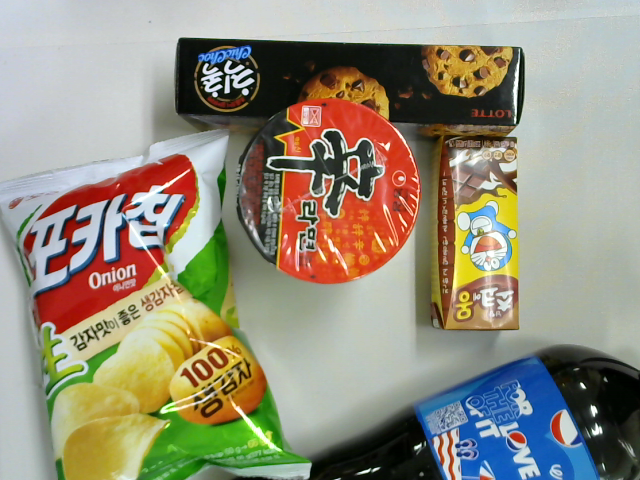Chicchok_Original_2400: (172, 34, 524, 131)
Choco_E_Mong: (431, 134, 525, 333)
Pepsi_Cola_1.5L: (307, 345, 640, 480)
Pocachip_Onion: (1, 126, 315, 480)
Sinramen_small: (231, 97, 421, 287)
